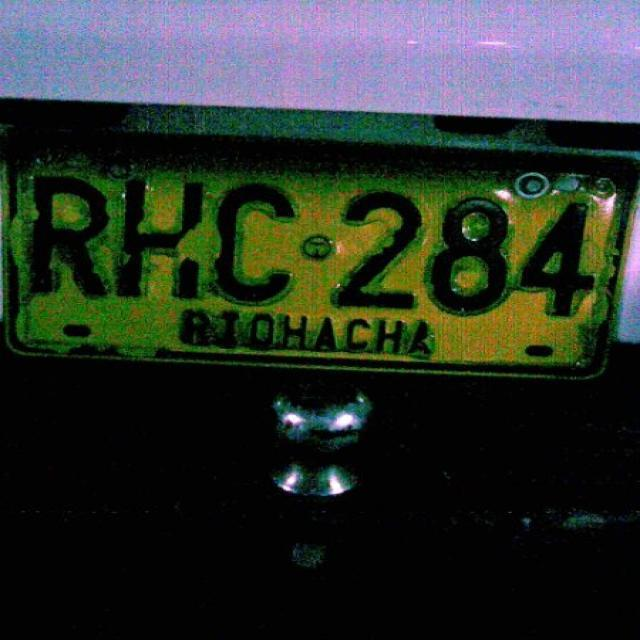placa: (4, 124, 636, 378)
